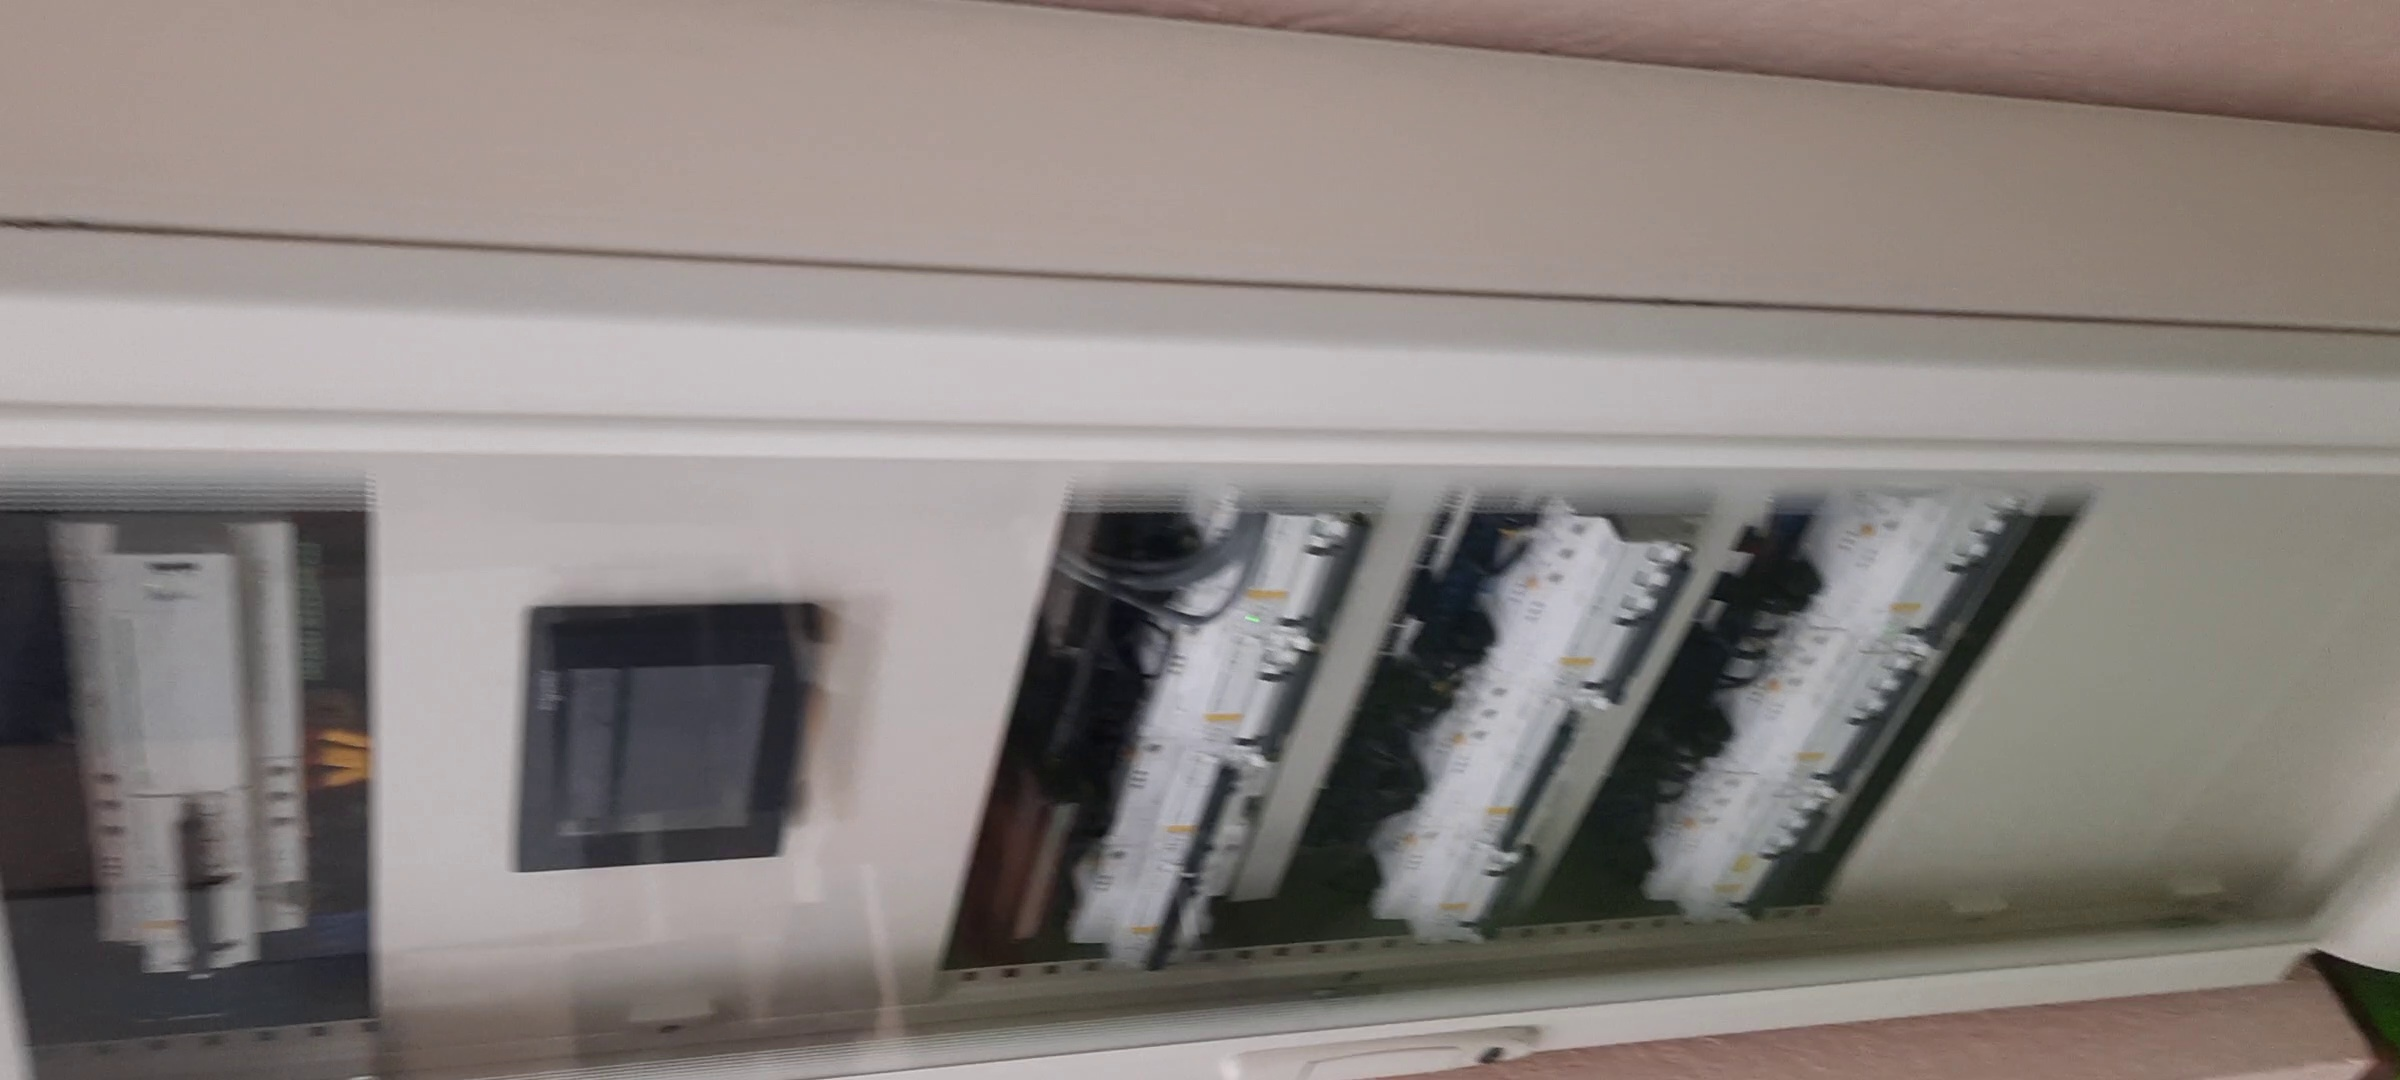smart_stand: (2, 312, 2400, 1080)
